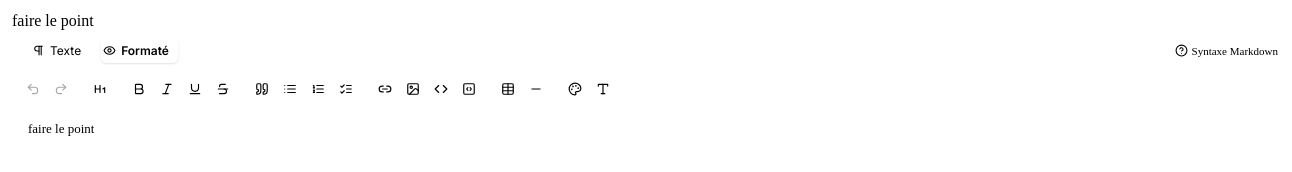
Test case: MarkdownEditor mode Formaté › applique une mise en forme depuis la barre d'outils et met à jour la source
Click the button titled "Liste à puces (Ctrl+Shift+8)": (290, 89) top-left (277, 76), bottom-right (303, 102)
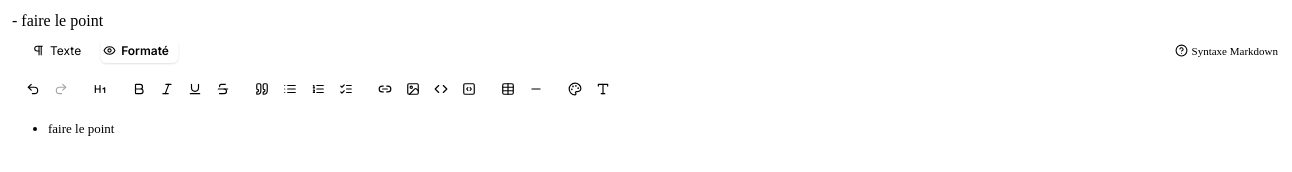
Expected: the list item "faire le point" is shown, top-left (48, 121), bottom-right (114, 136)
Now the text with test id "value" reads "- faire le point", box top-left (12, 12), bottom-right (103, 29)
